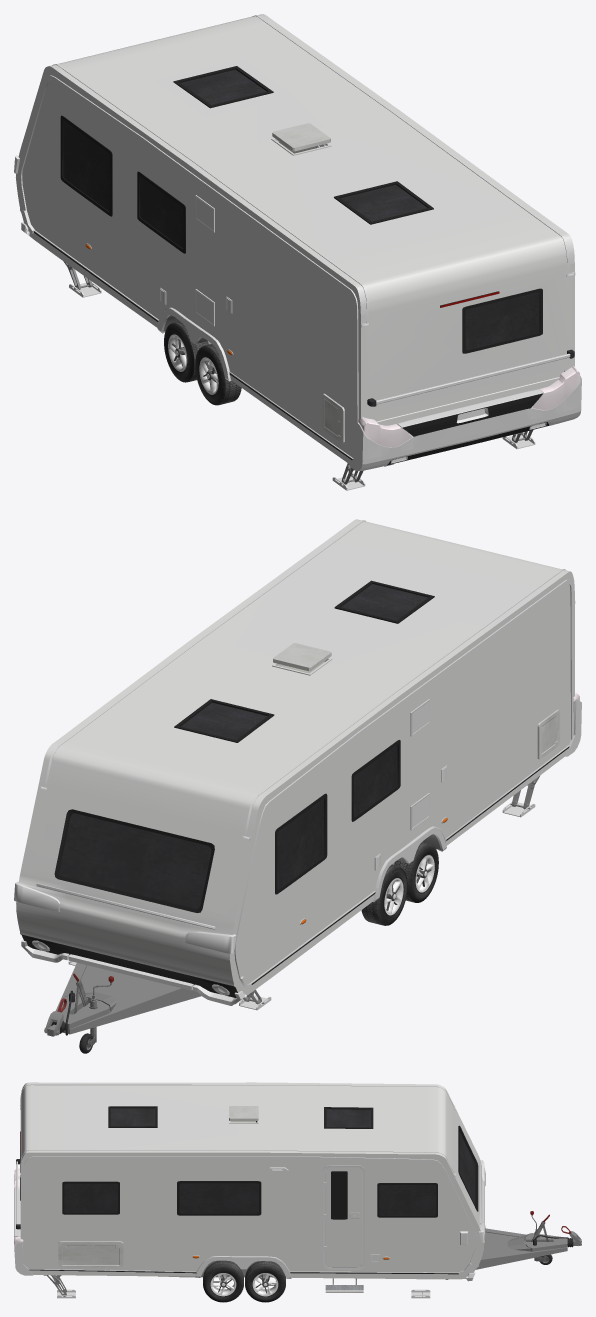
The model's file is eriba-nova-s690-hymer.fbx.
3 views of the same model, one above another, from view 1: azimuth 30°, elevation 25°; view 2: azimuth 150°, elevation 25°; view 3: azimuth 270°, elevation 25° (orthographic). The views are drawn at different scales.
Visible parts, largest first — view 1: 5, 110, 407, 150, 627, 599, 394, 420, 613, 873, 887, 1173 (+5 smaller); view 2: 5, 641, 110, 150, 1399, 599, 613, 1410, 887, 873, 68, 191 (+6 smaller); view 3: 5, 110, 150, 704, 571, 1399, 254, 553, 585, 1025, 1081, 873 (+10 smaller).
Part boxes in pixels (x1,y1,x2,y2): 5: (15,14,574,464); 110: (19,15,575,460); 407: (349,375,581,470); 150: (34,66,542,459); 627: (465,292,539,349); 599: (63,120,109,211); 394: (387,393,549,465); 420: (358,366,580,447); 613: (139,176,183,248); 873: (340,185,427,221); 887: (180,69,266,104); 1173: (195,344,241,405); 5: (16,519,574,995); 641: (59,813,211,908); 110: (21,520,575,1005); 150: (54,580,569,984); 1399: (47,862,394,1036); 599: (277,798,324,889); 613: (354,745,397,816); 1410: (73,965,171,1014); 887: (181,702,267,739); 873: (341,584,428,620); 68: (21,934,237,997); 191: (14,882,236,953); 5: (20,1082,484,1279); 110: (20,1084,478,1281); 150: (20,1106,478,1274); 704: (325,1167,362,1267); 571: (179,1183,258,1213); 1399: (158,1228,581,1280); 254: (58,1241,123,1268); 553: (379,1185,436,1215); 585: (64,1183,117,1212); 1025: (203,1260,243,1302); 1081: (245,1261,285,1302); 873: (110,1108,155,1126).
Bounding box in the file's own units: 358 × 326 × 1081.
Materials: 21 (18 with a texture image).
